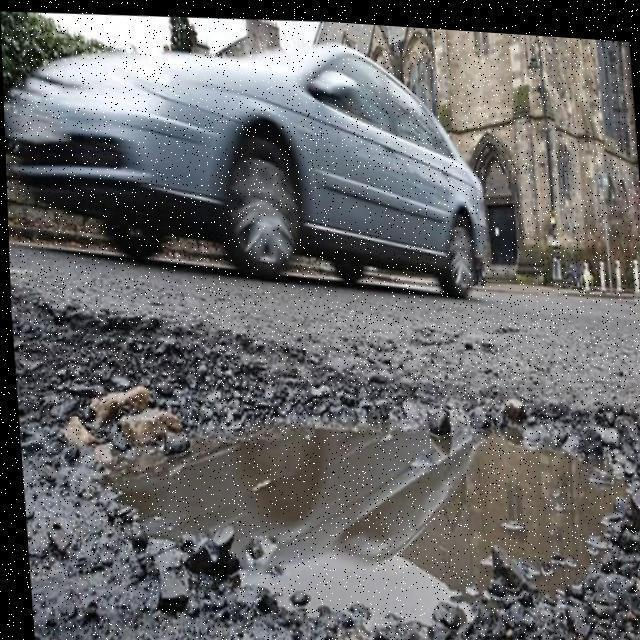Pothole: (11, 283, 639, 638)
